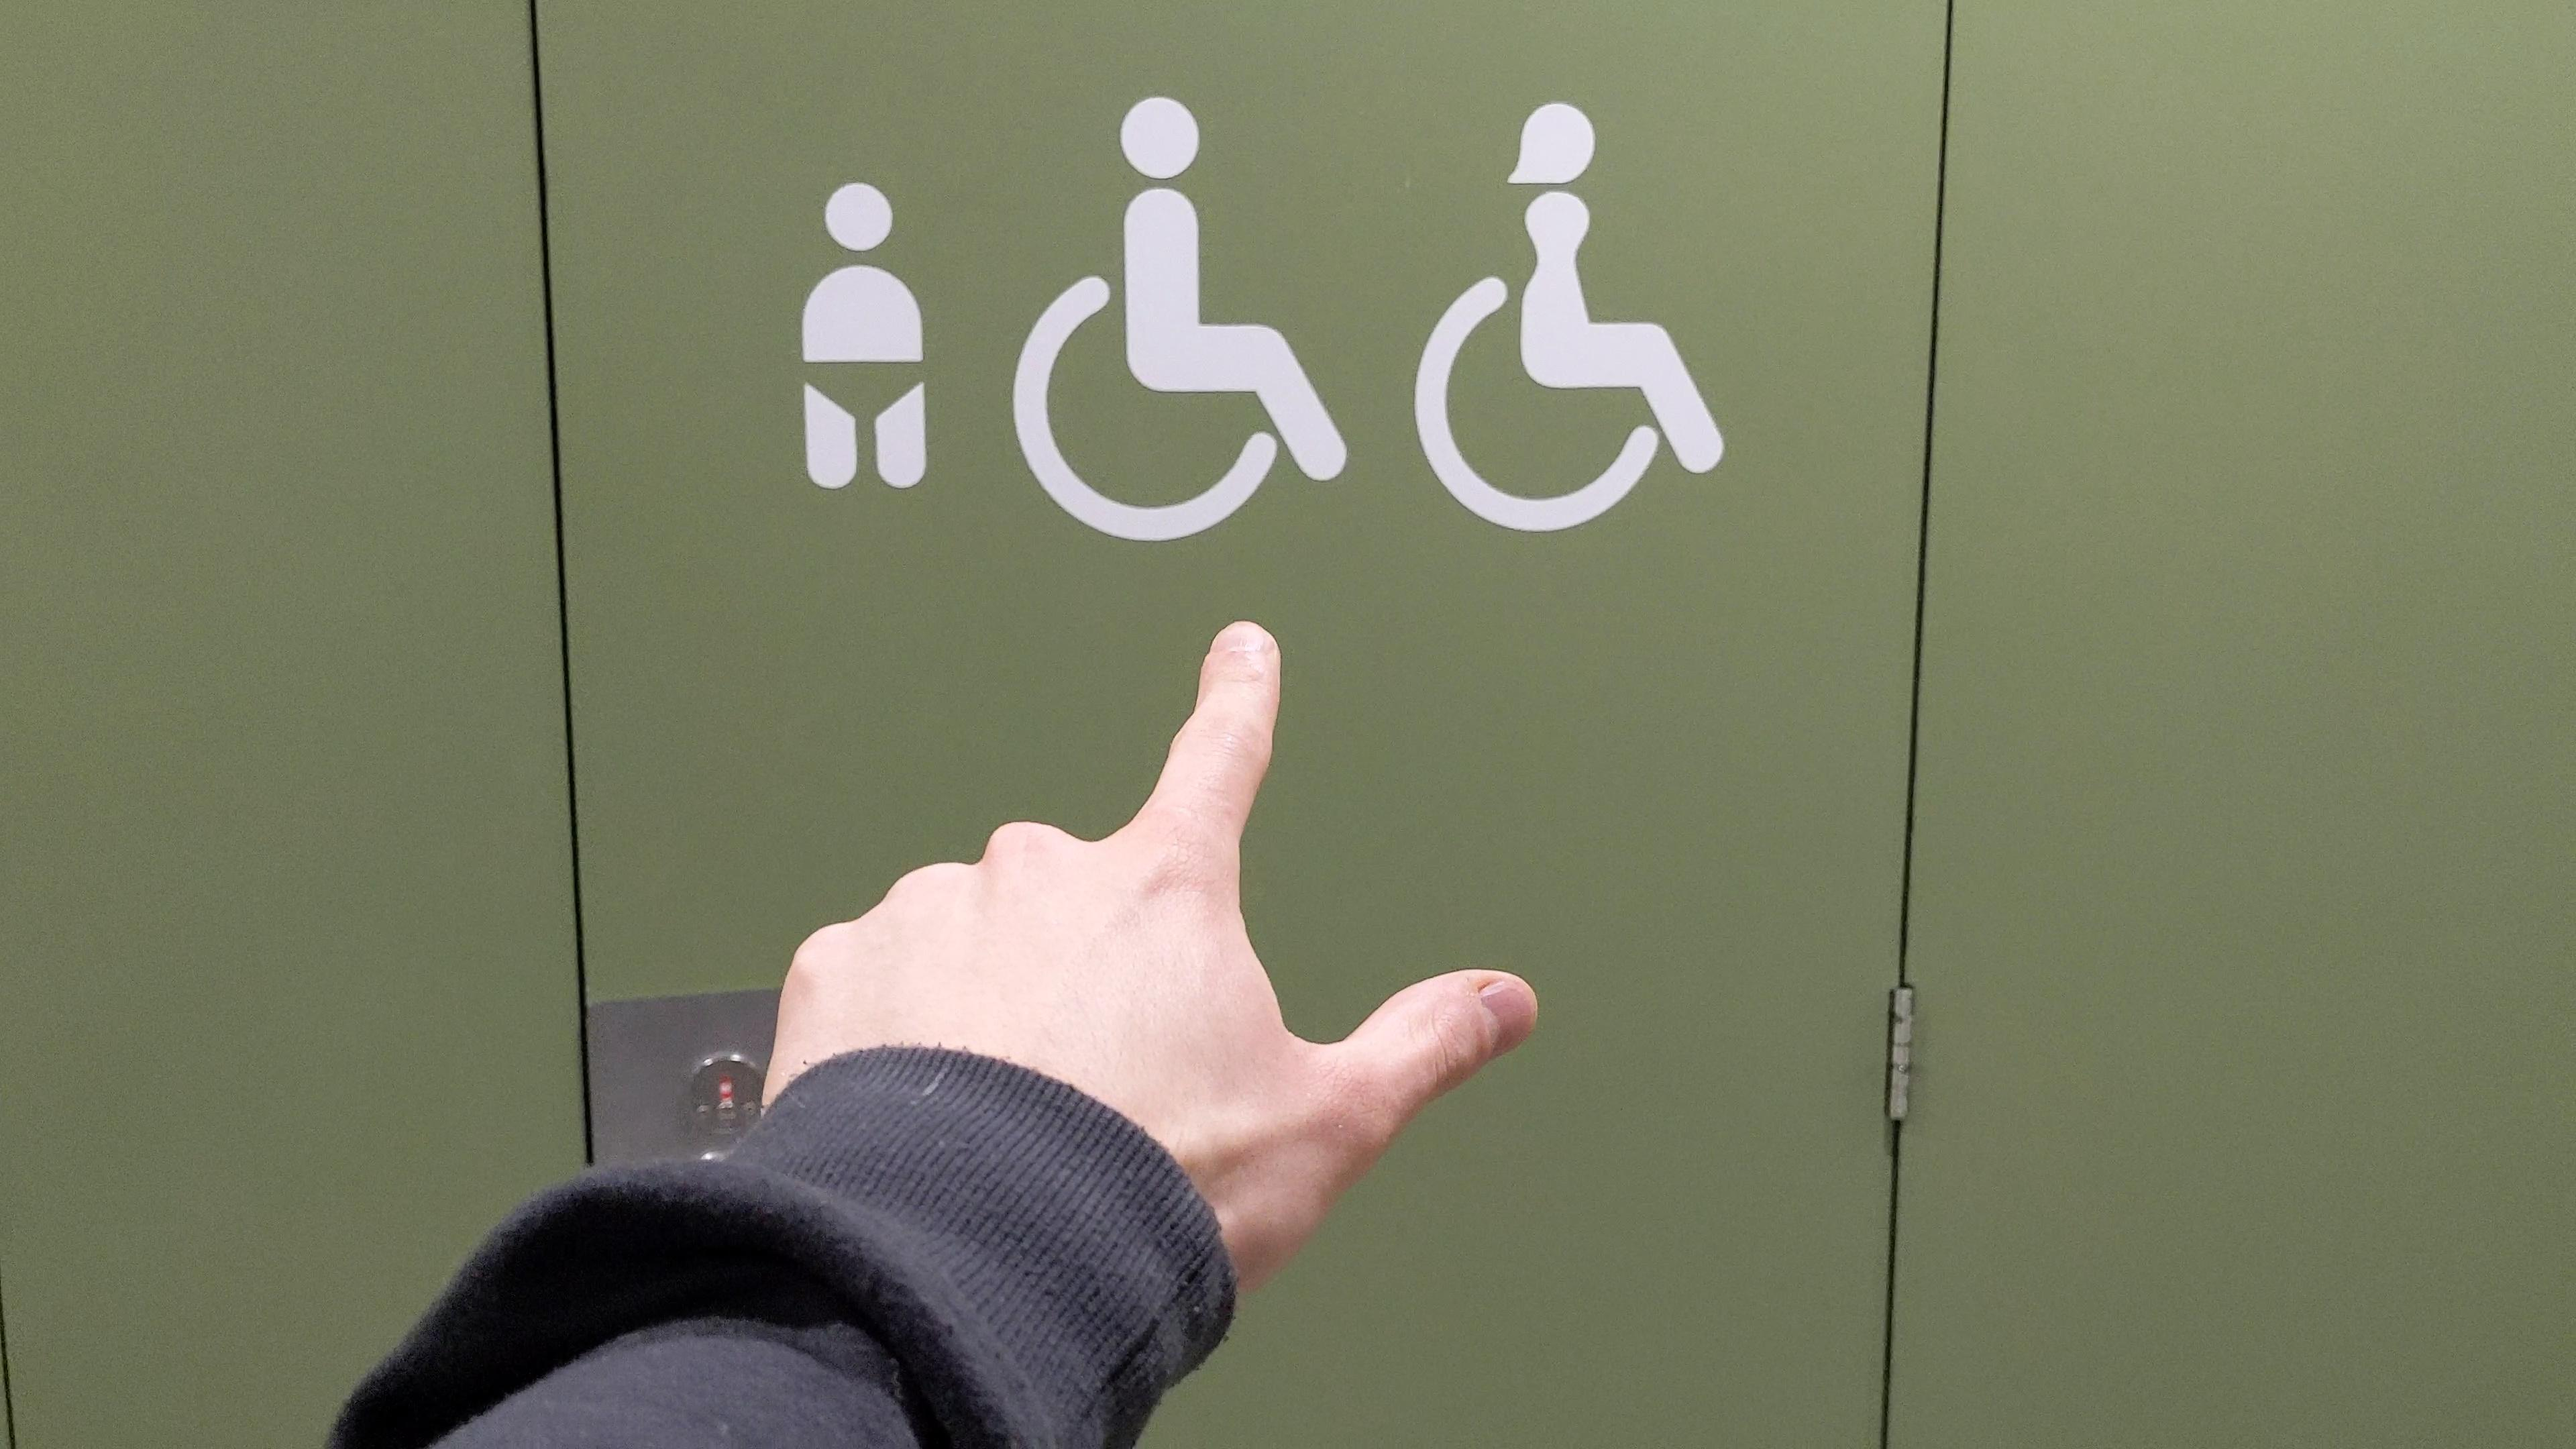handicapped symbol: (1000, 89, 1360, 555), (1407, 94, 1733, 539)
